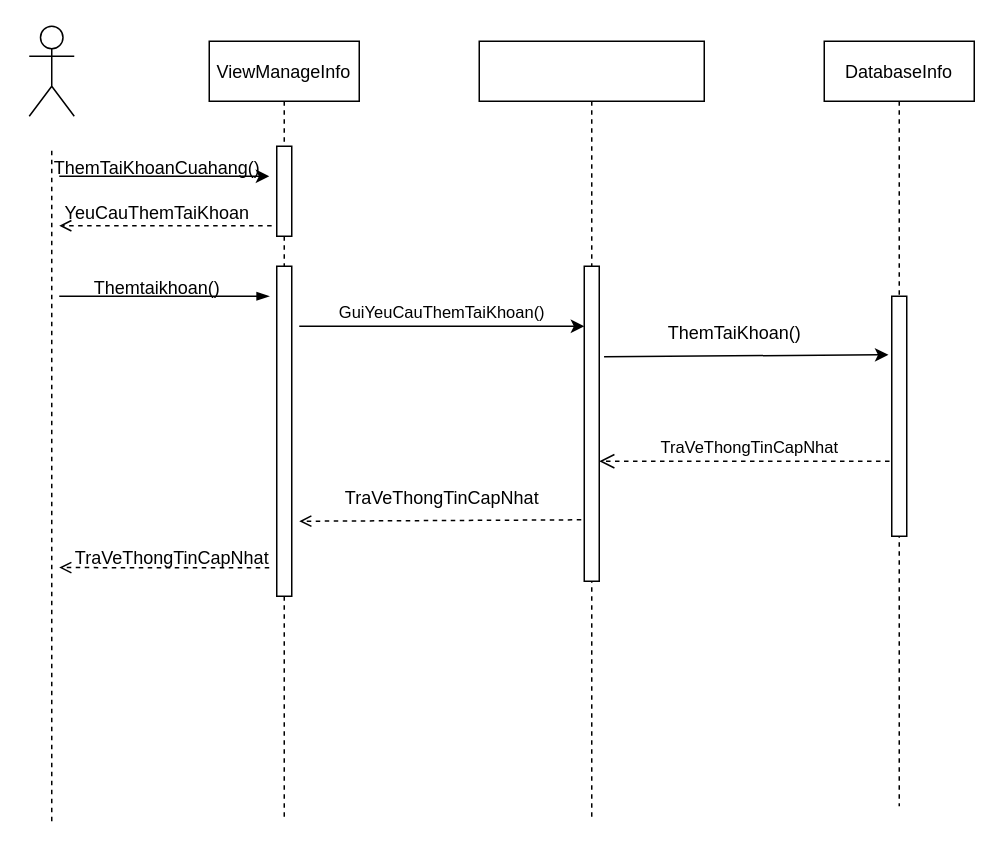
Some shapes in this 1001 by 849 pixel diagram are drawn without their labels. Each missing label, with the box of its shape:
Admin: (28, 25, 74, 116)
ControllerManagerInfo: (478, 40, 704, 821)
